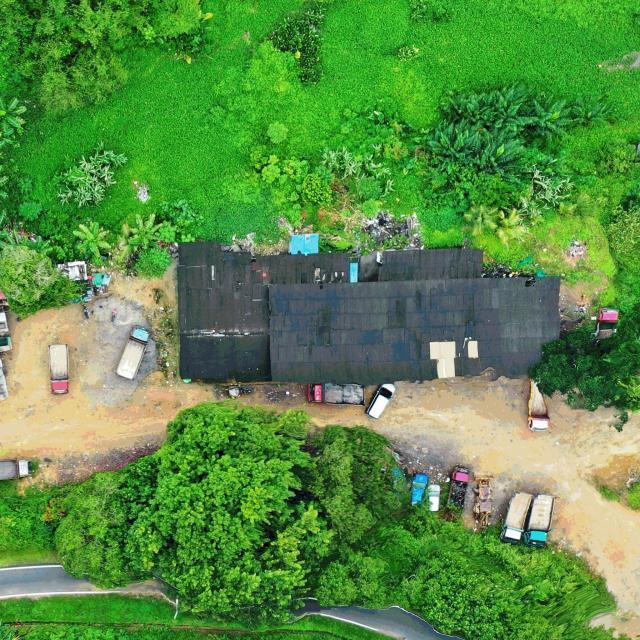Tree: (126, 403, 331, 622), (53, 470, 151, 590), (311, 423, 405, 544), (0, 244, 85, 322), (72, 222, 111, 258), (128, 213, 163, 250), (0, 96, 27, 134)
